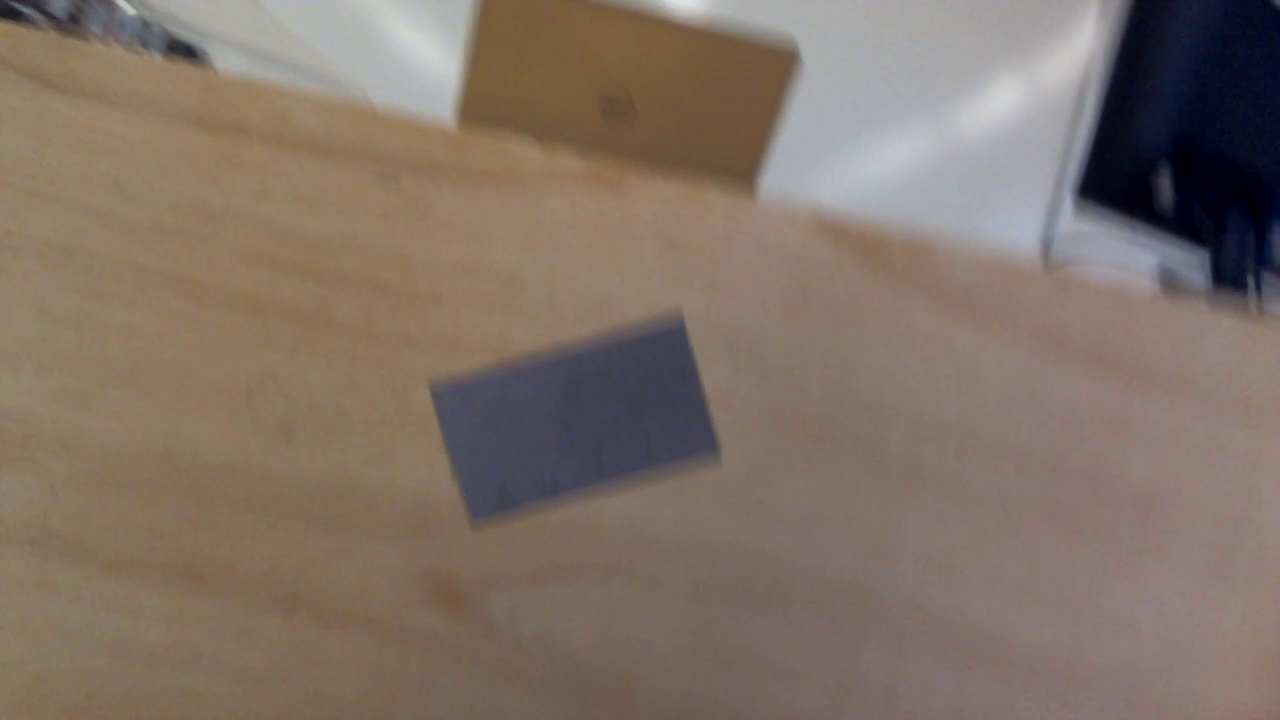Tape: (430, 313, 725, 532)
